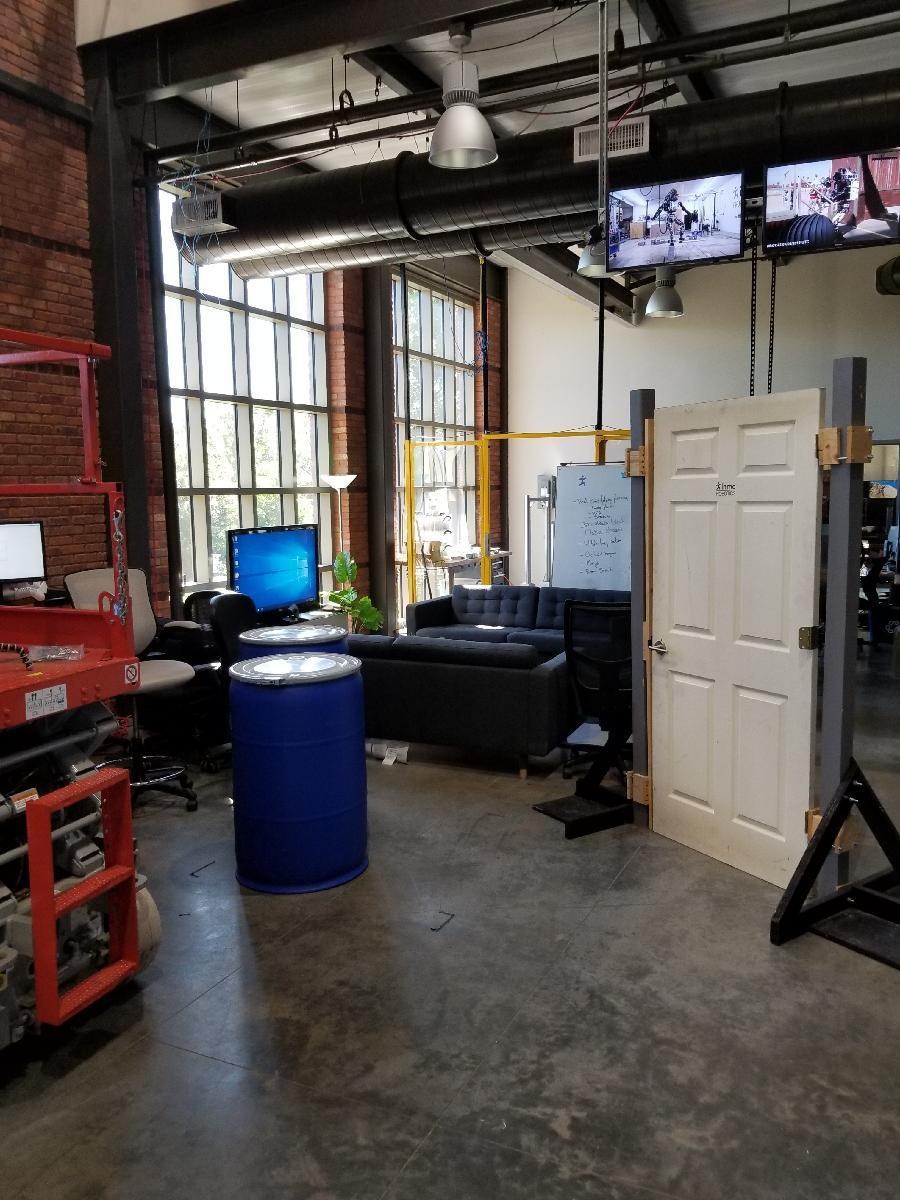door: (654, 408, 820, 879)
handle: (646, 633, 675, 667)
